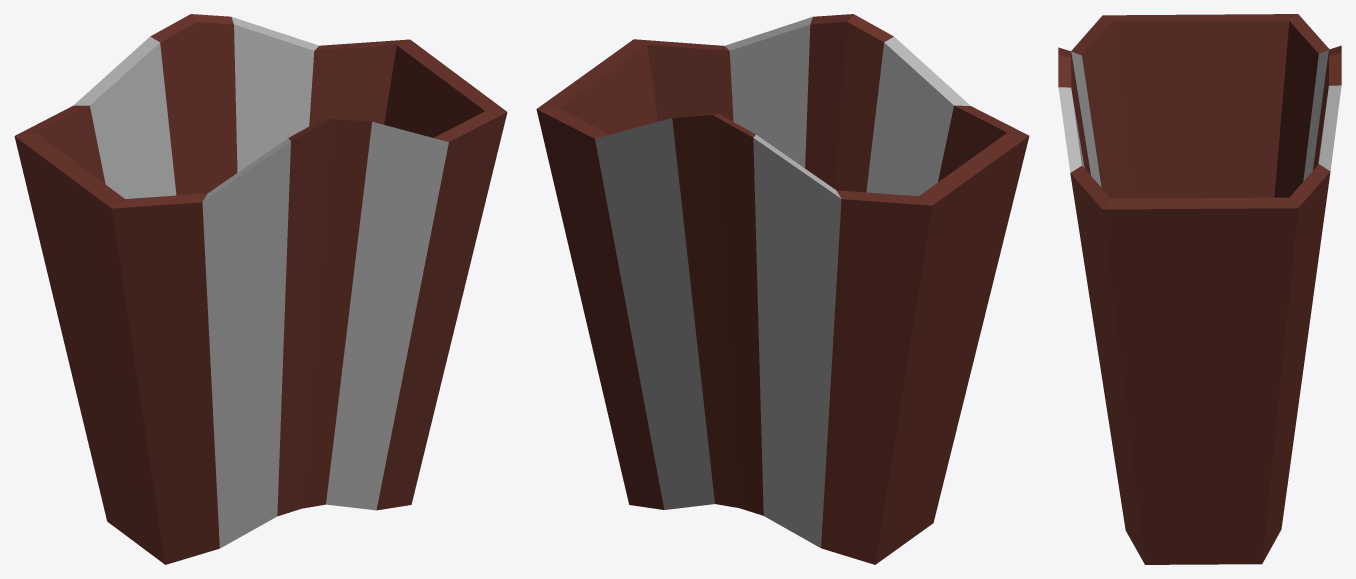
Rendered from Fries packet.fbx.
3 renders of one model, left to right at view 1: azimuth 30°, elevation 25°; view 2: azimuth 150°, elevation 25°; view 3: azimuth 270°, elevation 25°, orthographic.
Visible parts, largest first — view 1: Fries; view 2: Fries; view 3: Fries.
Boxes of the visible parts, left/top/right/bottom form: Fries: left=14, top=14, right=507, bottom=564; Fries: left=536, top=14, right=1029, bottom=564; Fries: left=1058, top=14, right=1341, bottom=564.
Bounding box in the file's own units: 42.22 × 45.82 × 26.03.
